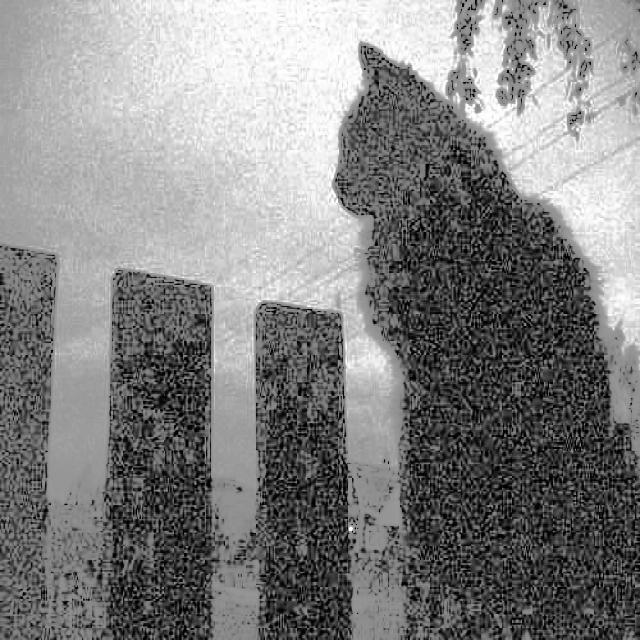Cat: (327, 34, 640, 640)
